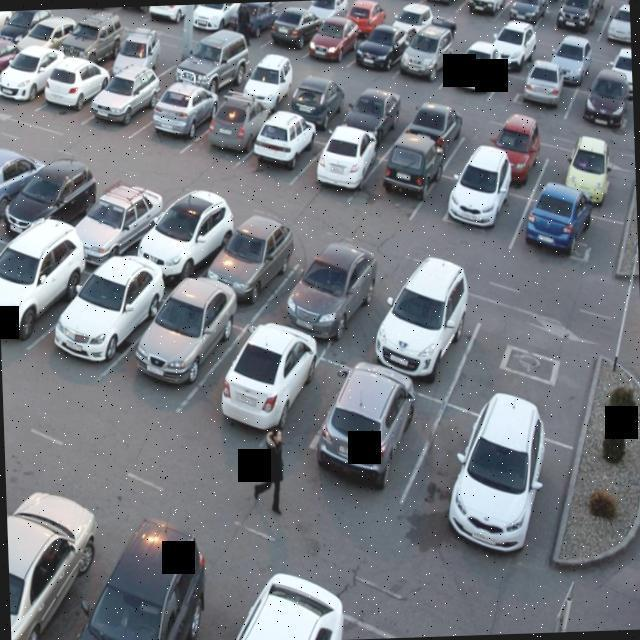car: (434, 403, 560, 555), (200, 322, 330, 449), (319, 356, 416, 498), (56, 262, 165, 378), (371, 280, 483, 392), (274, 240, 395, 334), (131, 288, 227, 388), (134, 186, 232, 280), (0, 241, 81, 347), (198, 215, 292, 305), (518, 187, 608, 274), (428, 164, 520, 246), (4, 160, 97, 231), (76, 190, 158, 269), (33, 55, 120, 125), (466, 116, 556, 182), (137, 76, 221, 146), (368, 133, 444, 208), (389, 95, 474, 161), (242, 106, 324, 172), (174, 33, 260, 95), (0, 133, 59, 223), (306, 124, 380, 194), (229, 47, 303, 116), (394, 22, 467, 91), (548, 150, 627, 212), (86, 66, 162, 130), (282, 63, 348, 134), (342, 13, 408, 82), (196, 92, 266, 156), (0, 42, 60, 115), (62, 7, 133, 68), (340, 80, 406, 142), (299, 0, 360, 67), (113, 21, 177, 84), (503, 50, 568, 112), (440, 38, 505, 100), (574, 79, 634, 140), (535, 21, 594, 82), (263, 0, 324, 53), (488, 10, 540, 66), (226, 2, 282, 42), (545, 0, 602, 39), (387, 0, 434, 46), (182, 2, 244, 36), (590, 44, 632, 94), (137, 4, 200, 31), (345, 0, 384, 39), (598, 8, 631, 54), (0, 32, 25, 88), (499, 0, 551, 26), (311, 0, 357, 25), (458, 0, 510, 21), (424, 0, 466, 17), (109, 5, 164, 17), (73, 7, 126, 15)
free: (456, 306, 586, 431), (447, 14, 494, 63), (270, 1, 312, 16)
